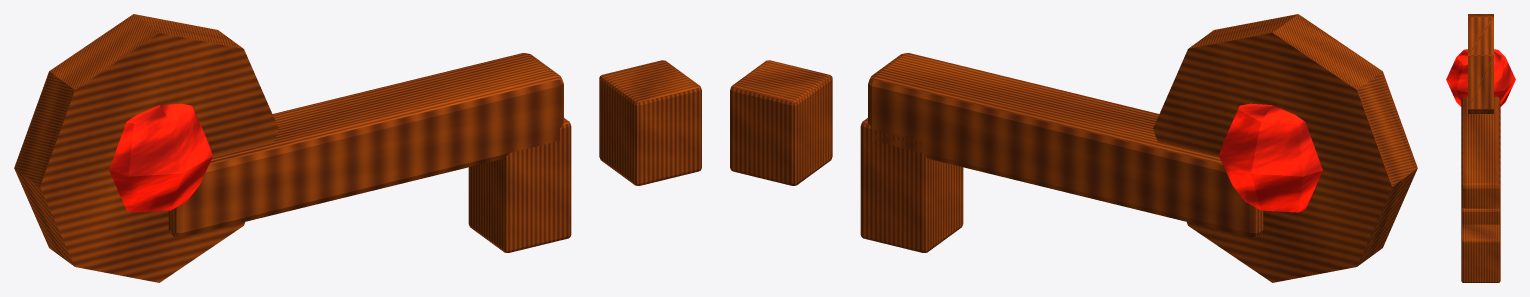
Rendered from SM_FC_CinderKey.glb.
3 renders of one model, left to right at view 1: azimuth 30°, elevation 25°; view 2: azimuth 150°, elevation 25°; view 3: azimuth 270°, elevation 25°, orthographic. The views are drawn at different scales.
Parts seen in each view (by area): view 1: SM_FC_CinderKey; view 2: SM_FC_CinderKey; view 3: SM_FC_CinderKey.
Part boxes in pixels (x1,y1,x2,y2): SM_FC_CinderKey: (14,14,701,282); SM_FC_CinderKey: (730,14,1417,282); SM_FC_CinderKey: (1446,14,1515,282).
Size of the model in its own units: 1.76 by 0.77 by 0.32.
2 materials, 2 textured.
